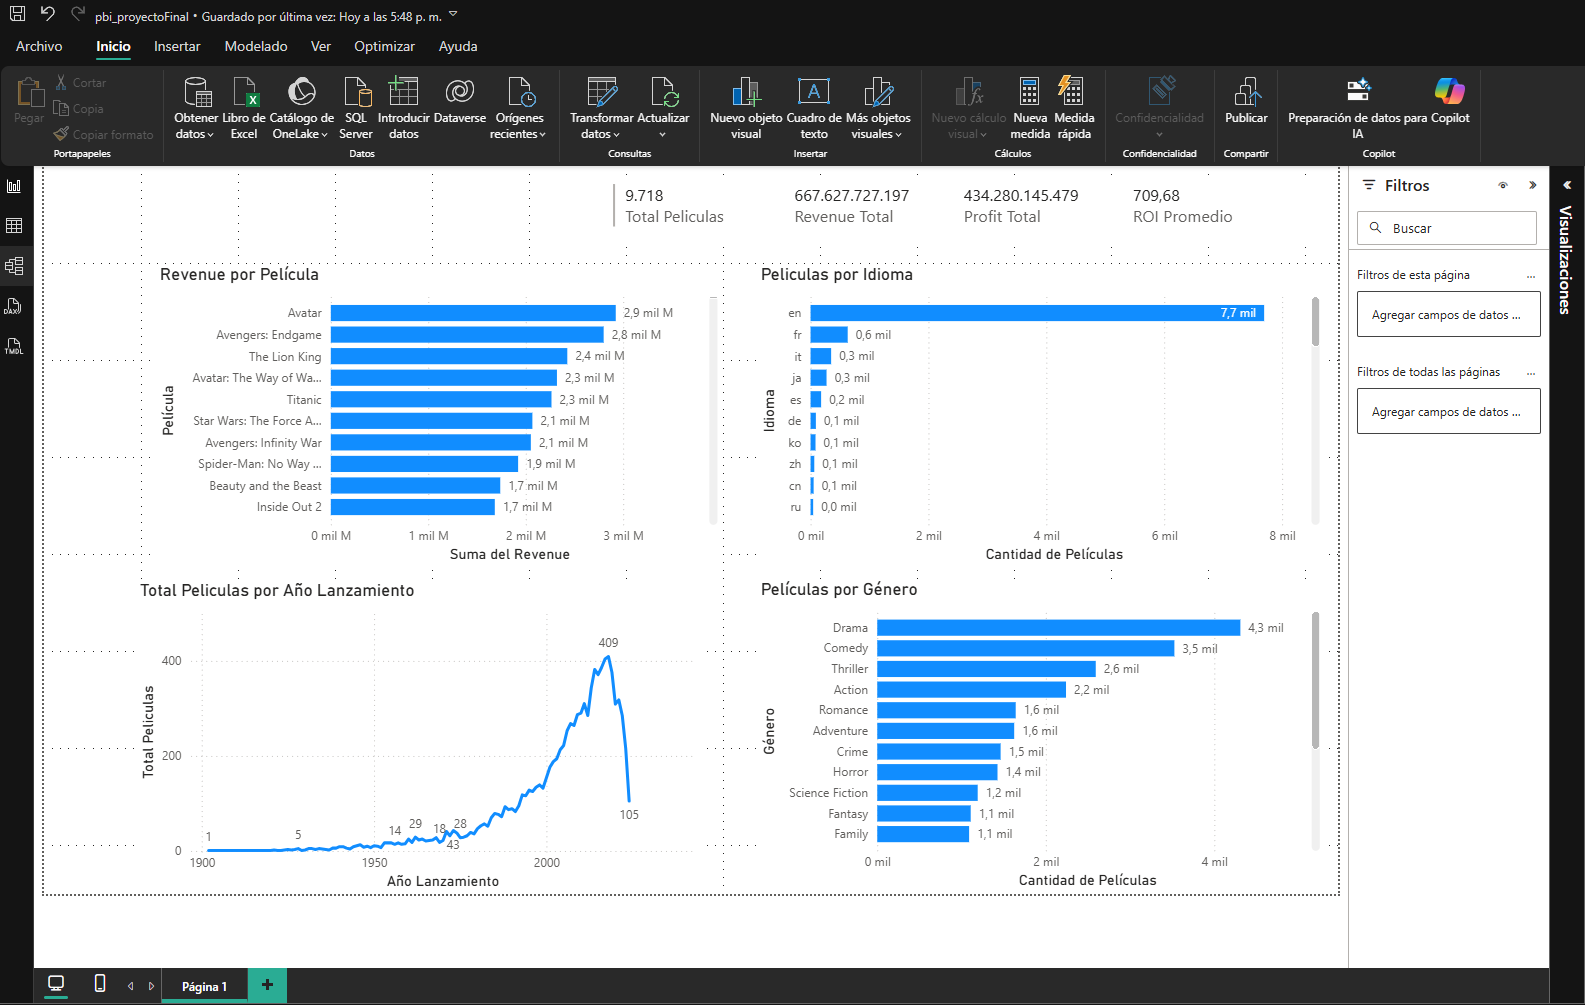

The dashboard page shown, as its layout file describes it:
{"tool":"powerbi","page":{"name":"Página 1","canvas":[1280,720],"ordinal":0},"visuals":[{"type":"multiRowCard","fields":{"Values":["vw_powerbi_movie_finance.Total Peliculas","vw_powerbi_movie_finance.Revenue Total","vw_powerbi_movie_finance.Profit Total","vw_powerbi_movie_finance.ROI Promedio"]},"box":[558.7,13.3,692,66.7],"z":0},{"type":"barChart","title":"Revenue por Película","fields":{"Category":["vw_powerbi_movie_finance.movie_title"],"Y":["Sum(vw_powerbi_movie_finance.revenue_usd)"]},"box":[110.3,97.1,561.7,300.1],"z":1},{"type":"clusteredBarChart","title":"Peliculas por Idioma ","fields":{"Category":["vw_powerbi_movie_finance.language_name"],"Y":["vw_powerbi_movie_finance.Peliculas por Idioma"]},"box":[705.1,97.1,562.8,300.1],"z":2},{"type":"lineChart","fields":{"Y":["vw_powerbi_movie_finance.Total Peliculas"],"Category":["vw_powerbi_movie_finance.Año Lanzamiento"]},"box":[90.5,409.4,561.7,311.2],"z":3},{"type":"clusteredBarChart","title":"Películas por Género","fields":{"Category":["vw_powerbi_movie_genre.genre_name"],"Y":["vw_powerbi_movie_genre.Peliculas por Genero"]},"box":[705,409,563,311],"z":4}]}

Visuals, with their boxes on the page's 1280x720 design canvas (x1, y1, x2, y2). These are canvas units, not pixel positions in the 1585x1005 screenshot, which may show the page scaled, cropped or inside an application window:
multiRowCard - vw_powerbi_movie_finance.Total Peliculas x vw_powerbi_movie_finance.Revenue Total: [559,13,1251,80]
"Revenue por Película" barChart: [110,97,672,397]
"Peliculas por Idioma " clusteredBarChart: [705,97,1268,397]
lineChart - vw_powerbi_movie_finance.Total Peliculas x vw_powerbi_movie_finance.Año Lanzamiento: [90,409,652,721]
"Películas por Género" clusteredBarChart: [705,409,1268,720]
